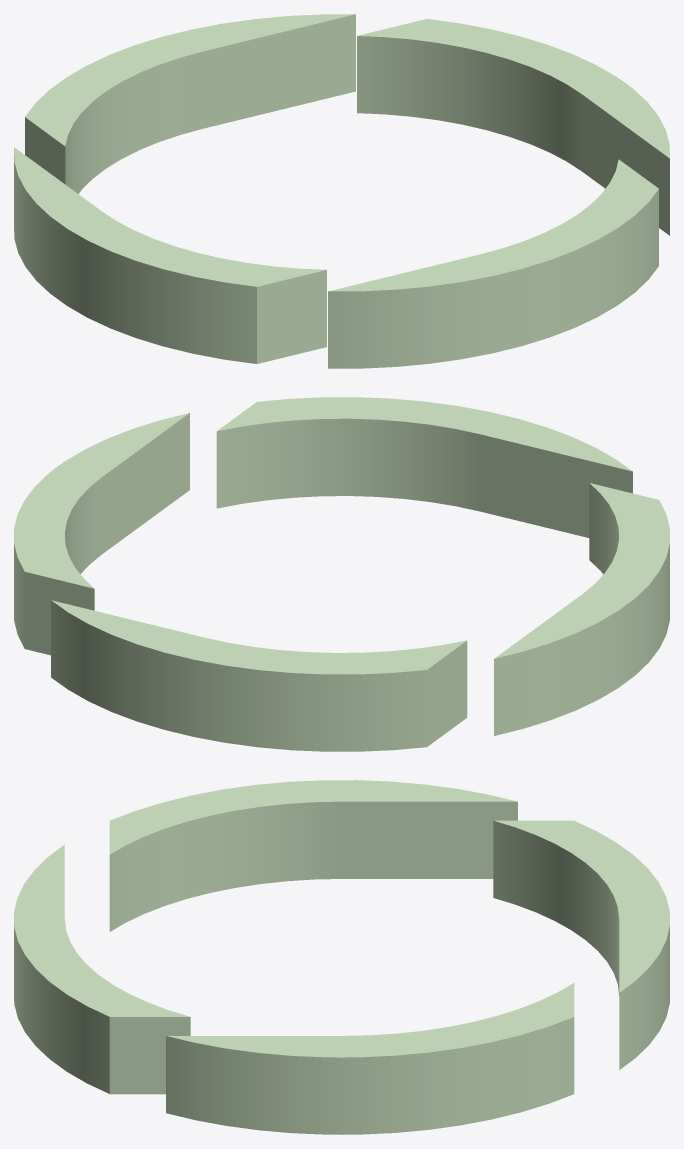
Rendered from swirler.gltf.
3 renders of one model, top to bottom at view 1: azimuth 30°, elevation 25°; view 2: azimuth 150°, elevation 25°; view 3: azimuth 270°, elevation 25°, orthographic.
Visible parts, largest first — view 1: Part 4, Part 3, Part 2, Part 1; view 2: Part 2, Part 4, Part 3, Part 1; view 3: Part 1, Part 3, Part 2, Part 4.
Part boxes in pixels (x1=…): Part 4: x1=328, y1=159, x2=658, y2=368; Part 3: x1=14, y1=147, x2=326, y2=363; Part 2: x1=25, y1=14, x2=355, y2=193; Part 1: x1=357, y1=19, x2=669, y2=235; Part 2: x1=51, y1=600, x2=467, y2=751; Part 4: x1=216, y1=397, x2=632, y2=537; Part 3: x1=494, y1=483, x2=669, y2=735; Part 1: x1=14, y1=413, x2=189, y2=655; Part 1: x1=166, y1=983, x2=574, y2=1134; Part 3: x1=109, y1=780, x2=517, y2=931; Part 2: x1=493, y1=820, x2=669, y2=1069; Part 4: x1=14, y1=845, x2=190, y2=1094.
Bounding box in the file's own units: 0.077 × 0.01 × 0.0769.
